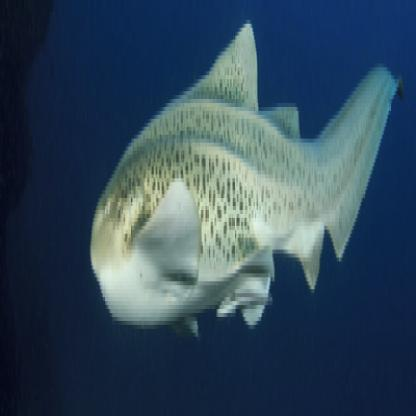Shark -Selachimorpha-: (90, 13, 404, 334)
